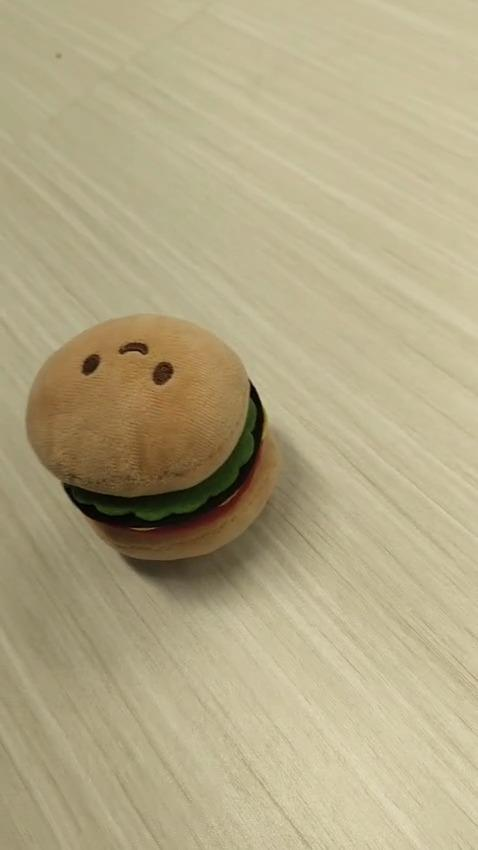hamburger: (24, 312, 280, 562)
